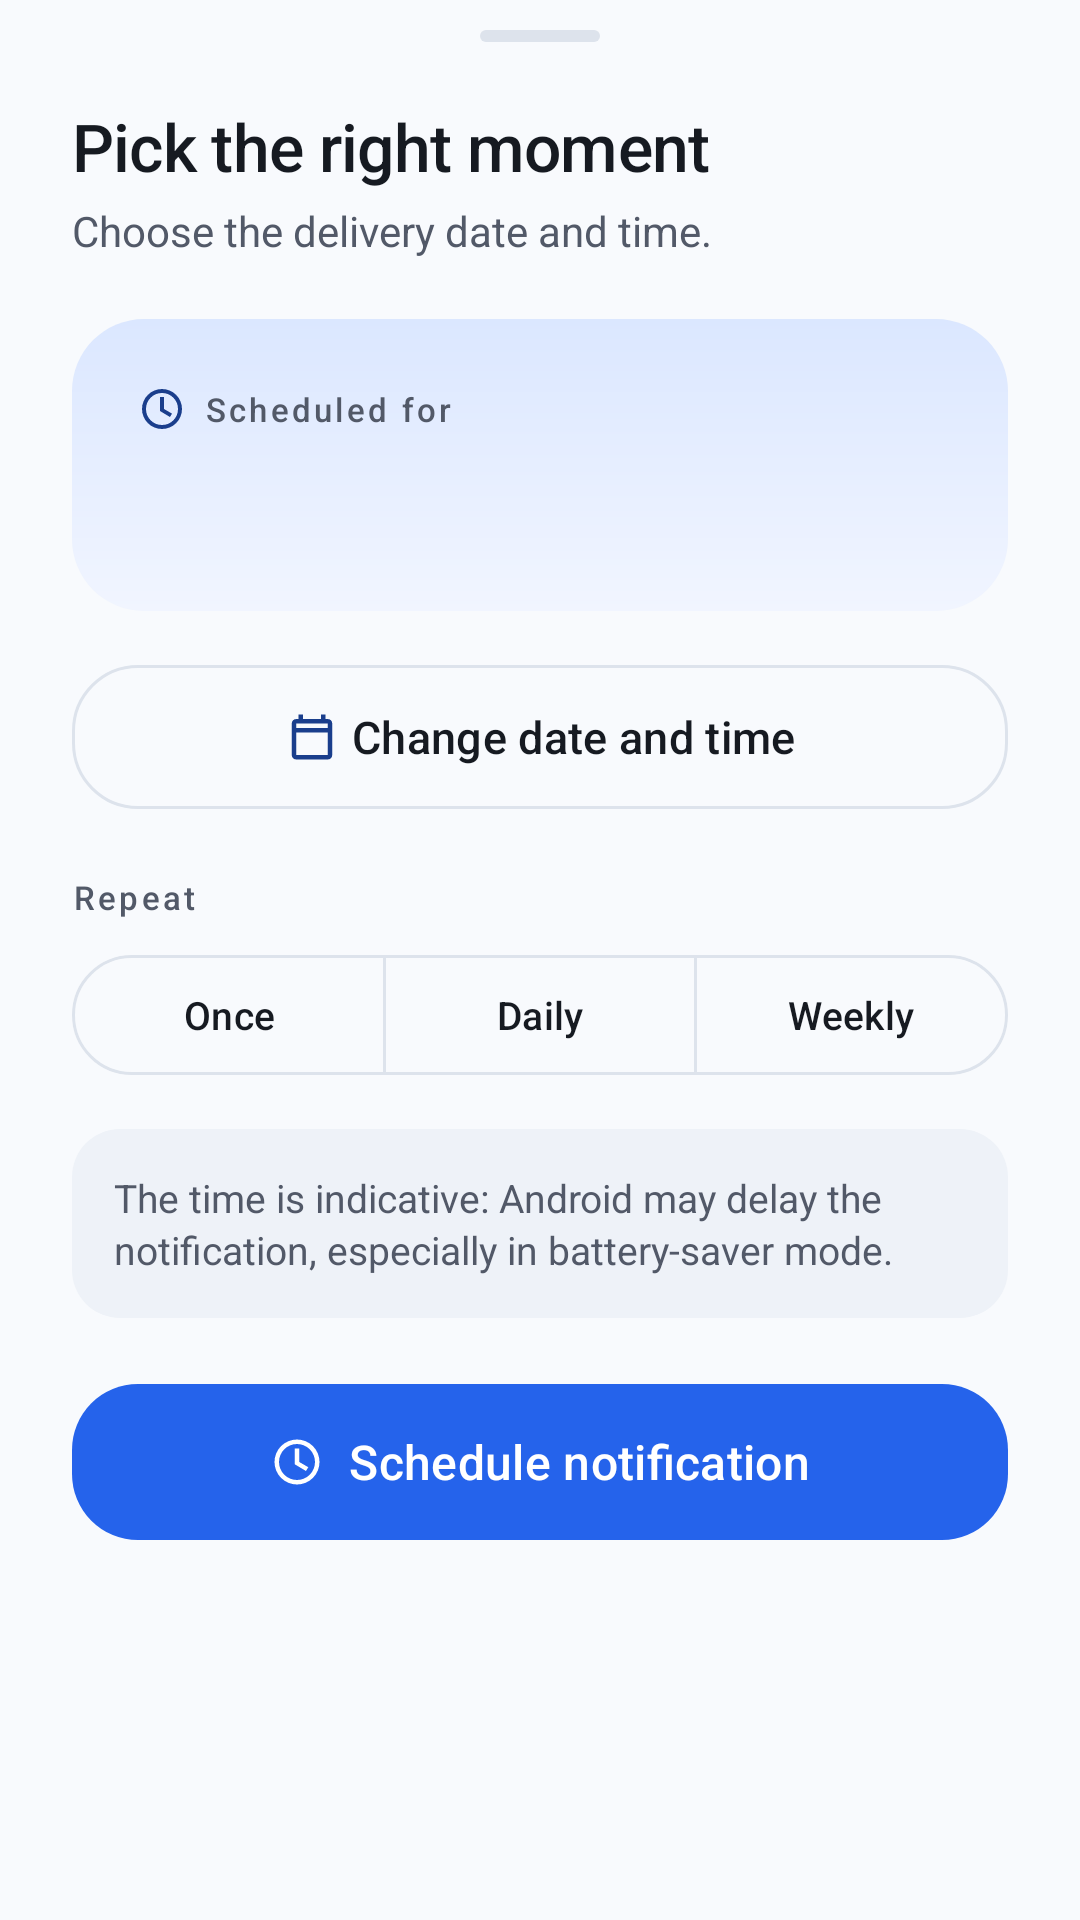

Locate icon controls on the screen. Image size 1080 x 1920, boxes as (x1, y1, x2, y2).
clock: (142, 389, 182, 429)
